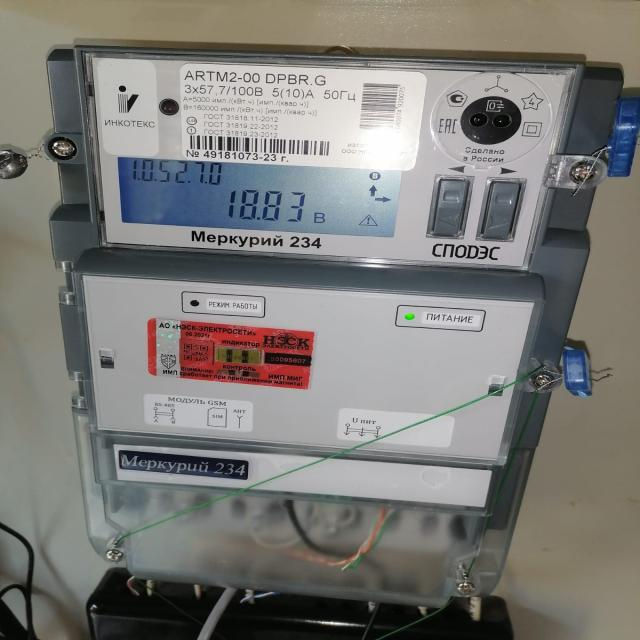Display: (117, 153, 405, 241)
seal_imp: (148, 317, 316, 390)
seal_mercury: (48, 41, 572, 514)
